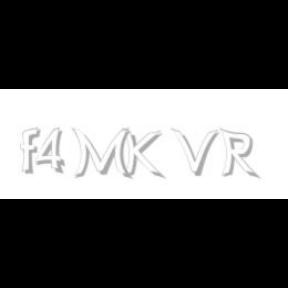4: (34, 128, 66, 174)
K: (122, 128, 162, 180)
M: (72, 128, 130, 180)
R: (219, 128, 257, 180)
V: (171, 128, 219, 176)
f: (20, 128, 44, 174)
